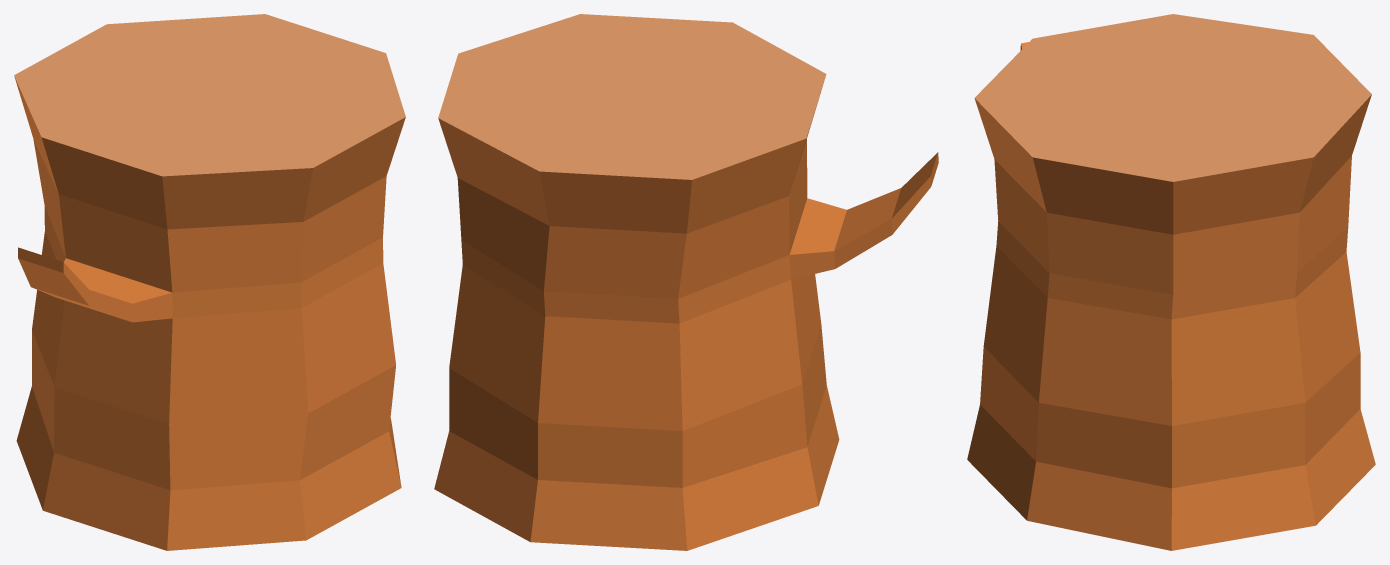
Rendered from TreeLog.fbx.
3 views of the same model, side by side, from view 1: azimuth 30°, elevation 25°; view 2: azimuth 150°, elevation 25°; view 3: azimuth 270°, elevation 25° (orthographic).
Parts seen in each view (by area): view 1: Tree Log; view 2: Tree Log; view 3: Tree Log.
Boxes of the visible parts, box(x1,y1,x2,y2) form: Tree Log: box(14, 14, 405, 550); Tree Log: box(434, 14, 938, 550); Tree Log: box(967, 14, 1375, 550).
Size of the model in its own units: 254 by 211 by 213.
